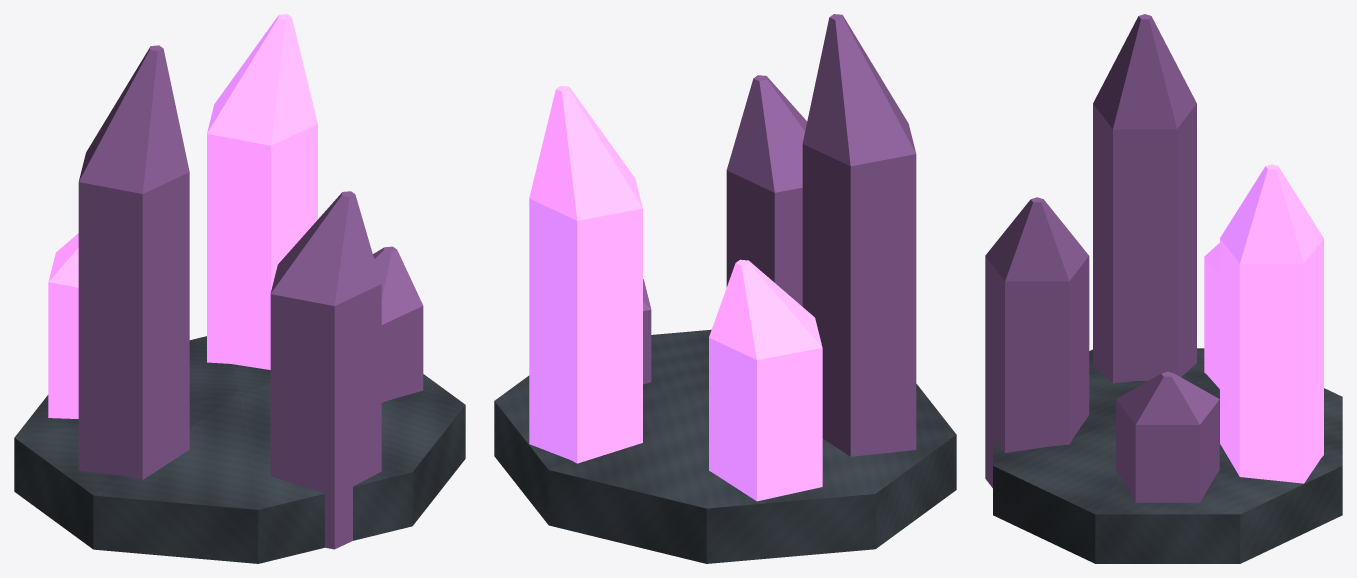
The model's file is Nature_PrismBloom.glb.
3 renders of one model, left to right at view 1: azimuth 30°, elevation 25°; view 2: azimuth 150°, elevation 25°; view 3: azimuth 270°, elevation 25°, orthographic. The views are drawn at different scales.
Visible parts, largest first — view 1: Nature_PrismBloom_Crystals, Nature_PrismBloom_RockBed; view 2: Nature_PrismBloom_Crystals, Nature_PrismBloom_RockBed; view 3: Nature_PrismBloom_Crystals, Nature_PrismBloom_RockBed.
Boxes of the visible parts, left/top/right/bottom form: Nature_PrismBloom_Crystals: left=48, top=14, right=423, bottom=549; Nature_PrismBloom_RockBed: left=14, top=336, right=465, bottom=563; Nature_PrismBloom_Crystals: left=529, top=14, right=916, bottom=501; Nature_PrismBloom_RockBed: left=494, top=329, right=956, bottom=563; Nature_PrismBloom_Crystals: left=985, top=14, right=1323, bottom=502; Nature_PrismBloom_RockBed: left=993, top=348, right=1342, bottom=563.
Bounding box in the file's own units: 1.44 × 1.8 × 1.31.
3 materials, 1 textured.
